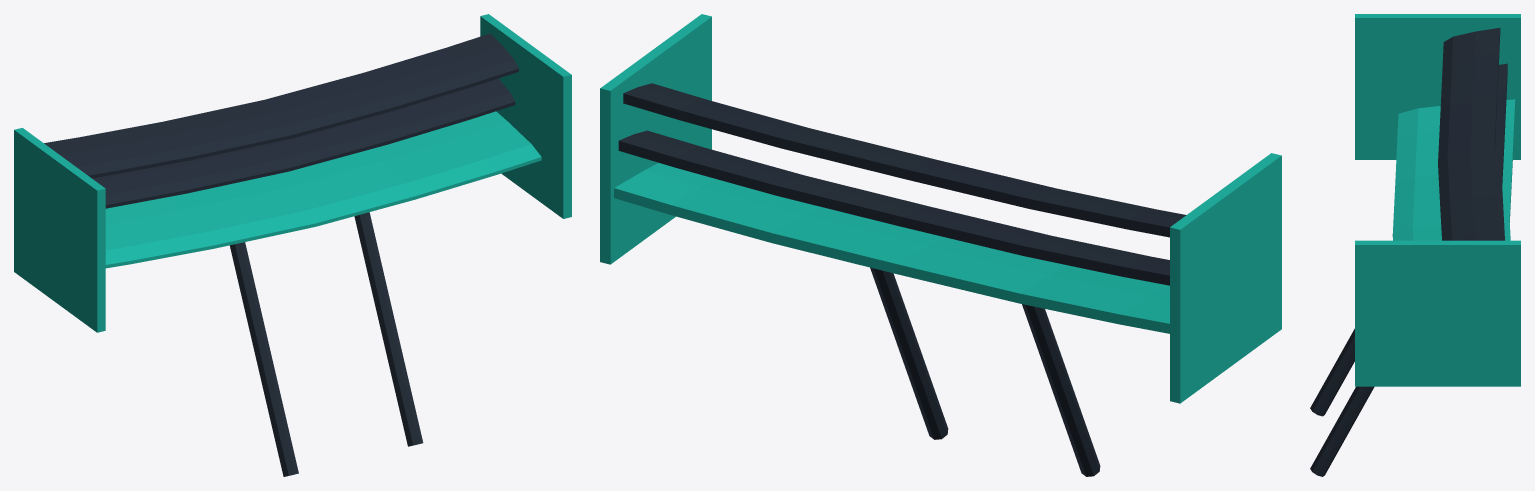
The model's file is highline.glb.
The picture shows the model from 3 angles, left to right: view 1: azimuth 30°, elevation 25°; view 2: azimuth 150°, elevation 25°; view 3: azimuth 270°, elevation 25°; orthographic projection. The views are drawn at different scales.
Visible parts, largest first — view 1: RearWing; view 2: RearWing; view 3: RearWing.
Part boxes in pixels (<box>): RearWing: <box>14,14,571,476</box>; RearWing: <box>600,14,1281,476</box>; RearWing: <box>1310,14,1520,476</box>.
Size of the model in its own units: 1.45 by 0.925 by 0.5596.
